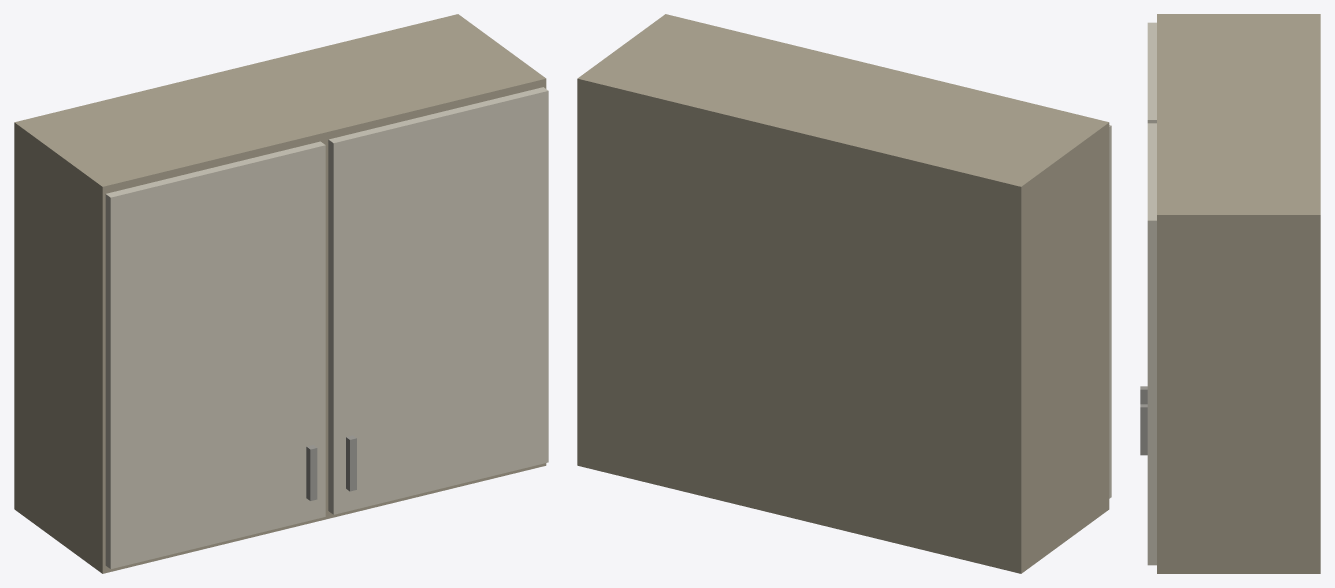
The model's file is kitchen-wall-cabinet.glb.
3 views of the same model, side by side, from view 1: azimuth 30°, elevation 25°; view 2: azimuth 150°, elevation 25°; view 3: azimuth 270°, elevation 25° (orthographic). The views are drawn at different scales.
Parts seen in each view (by area): view 1: enamel, plastic-light, brushed; view 2: plastic-light, enamel; view 3: plastic-light, enamel, brushed.
Boxes of the visible parts, left/top/right/bottom form: enamel: left=105, top=87, right=548, bottom=568; plastic-light: left=14, top=14, right=546, bottom=573; brushed: left=306, top=435, right=356, bottom=500; plastic-light: left=577, top=14, right=1109, bottom=573; enamel: left=1109, top=125, right=1111, bottom=498; plastic-light: left=1157, top=14, right=1320, bottom=573; enamel: left=1147, top=22, right=1156, bottom=565; brushed: left=1140, top=386, right=1147, bottom=455.
Bounding box in the file's own units: 0.9 × 0.75 × 0.342.
